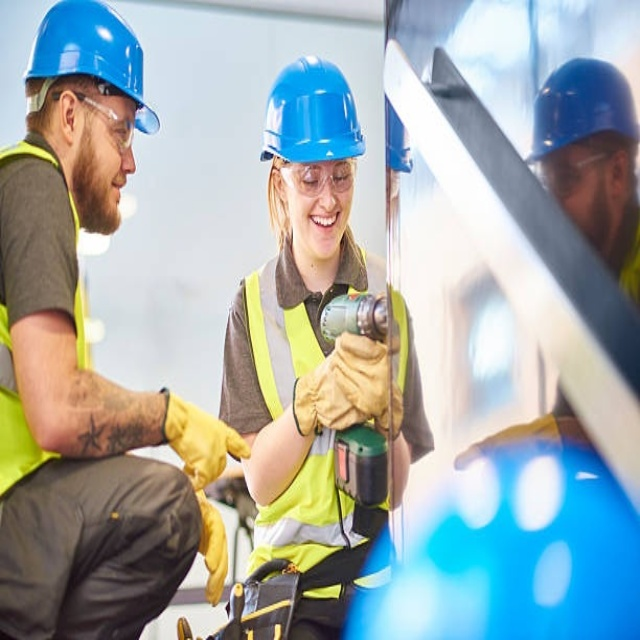Gafas: (74, 93, 135, 154), (278, 155, 360, 195), (542, 149, 611, 196)
Guantes: (294, 331, 403, 437), (159, 391, 252, 490), (192, 486, 229, 607)
Sin_mascara: (95, 169, 131, 224), (303, 207, 345, 246)
